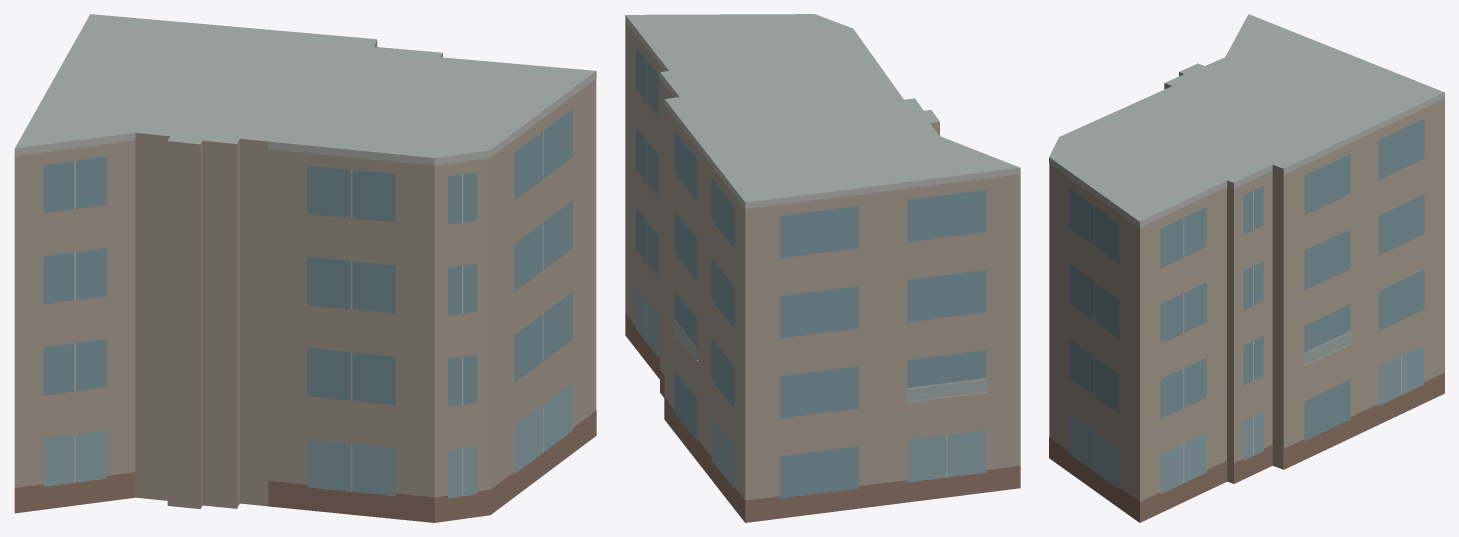
File: survey-upis-32719427.glb
3 renders of one model, left to right at view 1: azimuth 30°, elevation 25°; view 2: azimuth 150°, elevation 25°; view 3: azimuth 270°, elevation 25°, orthographic. The views are drawn at different scales.
Parts seen in each view (by area): view 1: survey-upis-32719427.tmp; view 2: survey-upis-32719427.tmp; view 3: survey-upis-32719427.tmp.
Boxes of the visible parts, bbox=[...] form: survey-upis-32719427.tmp: bbox=[14, 14, 596, 522]; survey-upis-32719427.tmp: bbox=[625, 14, 1020, 522]; survey-upis-32719427.tmp: bbox=[1049, 14, 1444, 522].
Bounding box in the file's own units: 17.47 × 11.8 × 14.06.
